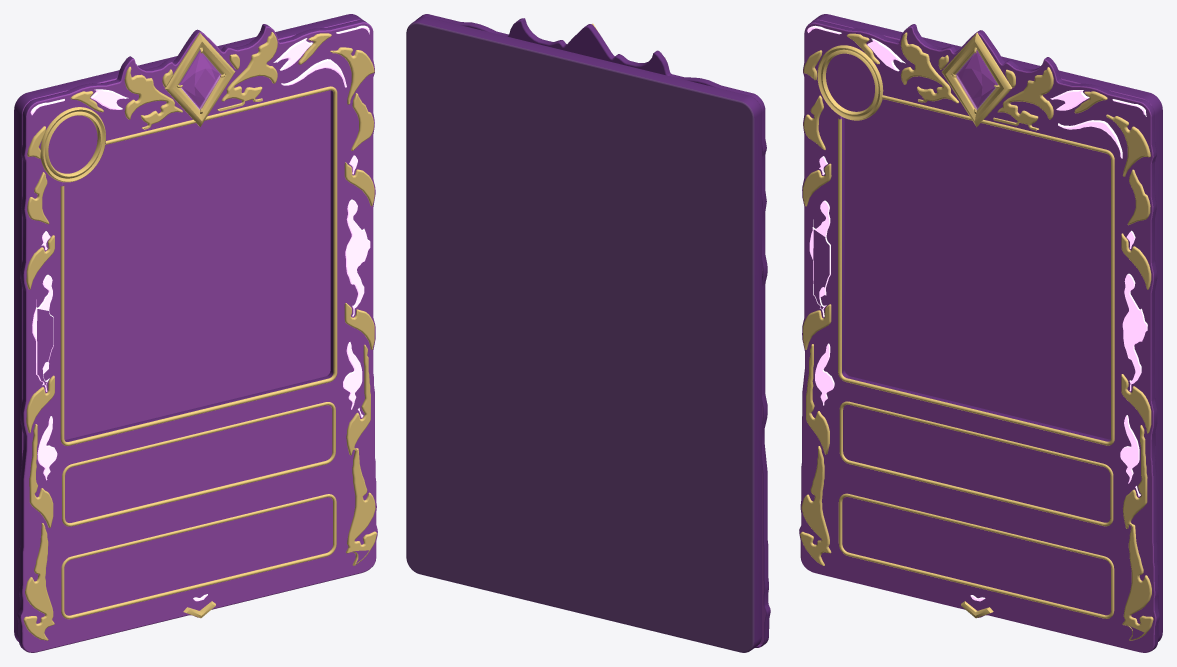
File: card-epic.glb
3 views of the same model, side by side, from view 1: azimuth 30°, elevation 25°; view 2: azimuth 150°, elevation 25°; view 3: azimuth 330°, elevation 25° (orthographic).
Parts seen in each view (by area): view 1: slab.003, frame.002, stat-plate.003, name-plate.003, gold-ornaments, glow-runes, rim-window.003, rim-stat.003, rim-name.003, medal-disc.003, setting.001, rim-medal.003 (+1 smaller); view 2: slab.003, frame.002; view 3: slab.003, frame.002, stat-plate.003, name-plate.003, gold-ornaments, glow-runes, rim-window.003, rim-stat.003, rim-name.003, setting.001, medal-disc.003, rim-medal.003 (+1 smaller).
Boxes of the visible parts, x1,y1,x2,y2 form: slab.003: [14, 14, 363, 641]; frame.002: [17, 20, 377, 652]; stat-plate.003: [64, 497, 332, 615]; name-plate.003: [65, 405, 332, 522]; gold-ornaments: [23, 32, 376, 640]; glow-runes: [30, 25, 370, 601]; rim-window.003: [60, 86, 337, 445]; rim-stat.003: [61, 494, 336, 619]; rim-name.003: [62, 402, 335, 526]; medal-disc.003: [48, 115, 97, 173]; setting.001: [164, 32, 235, 126]; rim-medal.003: [40, 107, 105, 182]; slab.003: [406, 16, 761, 652]; frame.002: [418, 14, 770, 647]; slab.003: [812, 14, 1162, 641]; frame.002: [799, 20, 1159, 652]; stat-plate.003: [842, 497, 1110, 615]; name-plate.003: [843, 404, 1110, 522]; gold-ornaments: [800, 32, 1153, 640]; glow-runes: [807, 25, 1147, 601]; rim-window.003: [838, 95, 1114, 445]; rim-stat.003: [838, 493, 1114, 618]; rim-name.003: [839, 401, 1113, 526]; setting.001: [941, 32, 1012, 126]; medal-disc.003: [826, 53, 874, 111]; rim-medal.003: [817, 45, 883, 120].
Size of the model in its own units: 0.9257 by 1.45 by 0.081.
